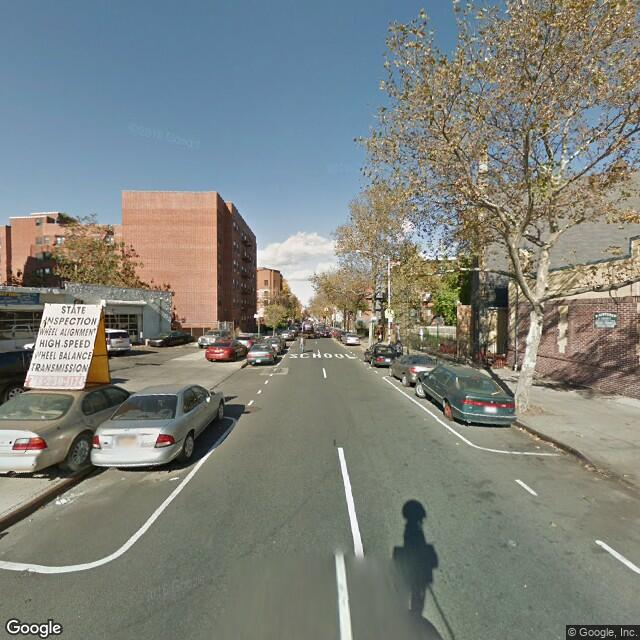litter: (516, 428, 569, 455)
